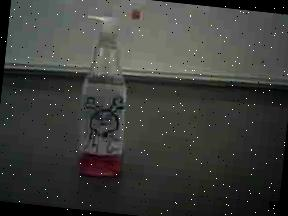hazard: (65, 1, 148, 186)
